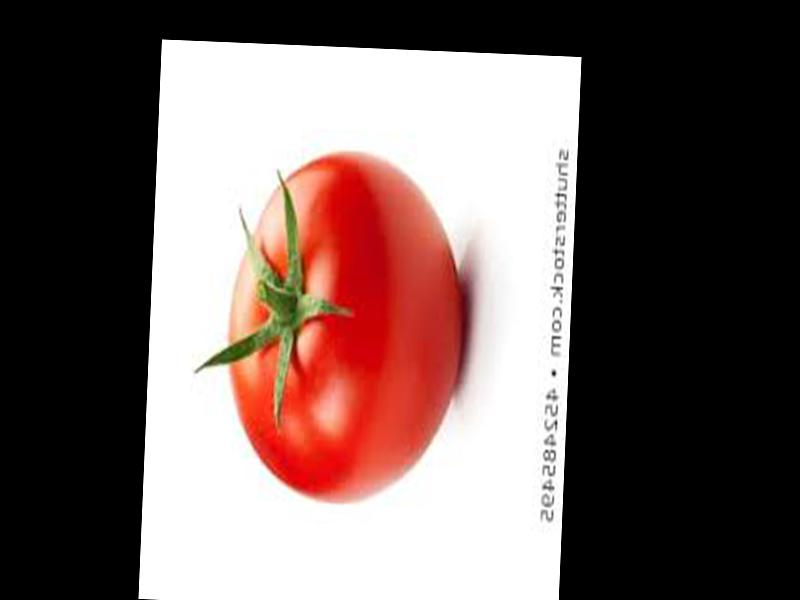Tomato: (222, 151, 471, 503)
